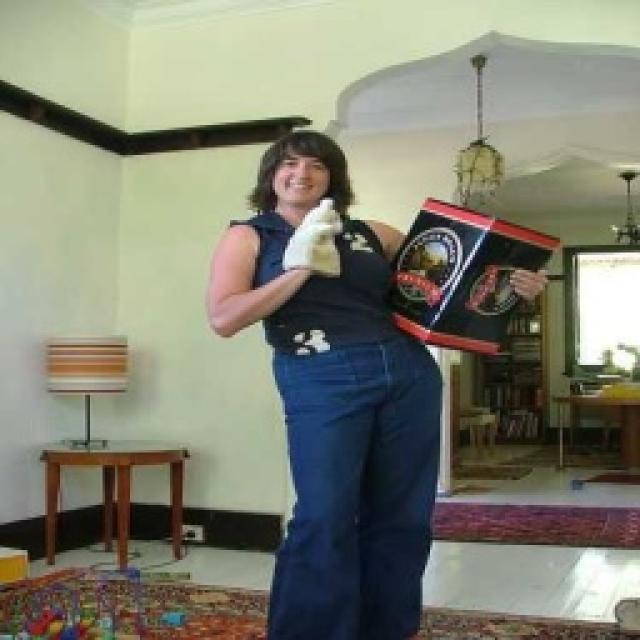box: (391, 196, 544, 356)
